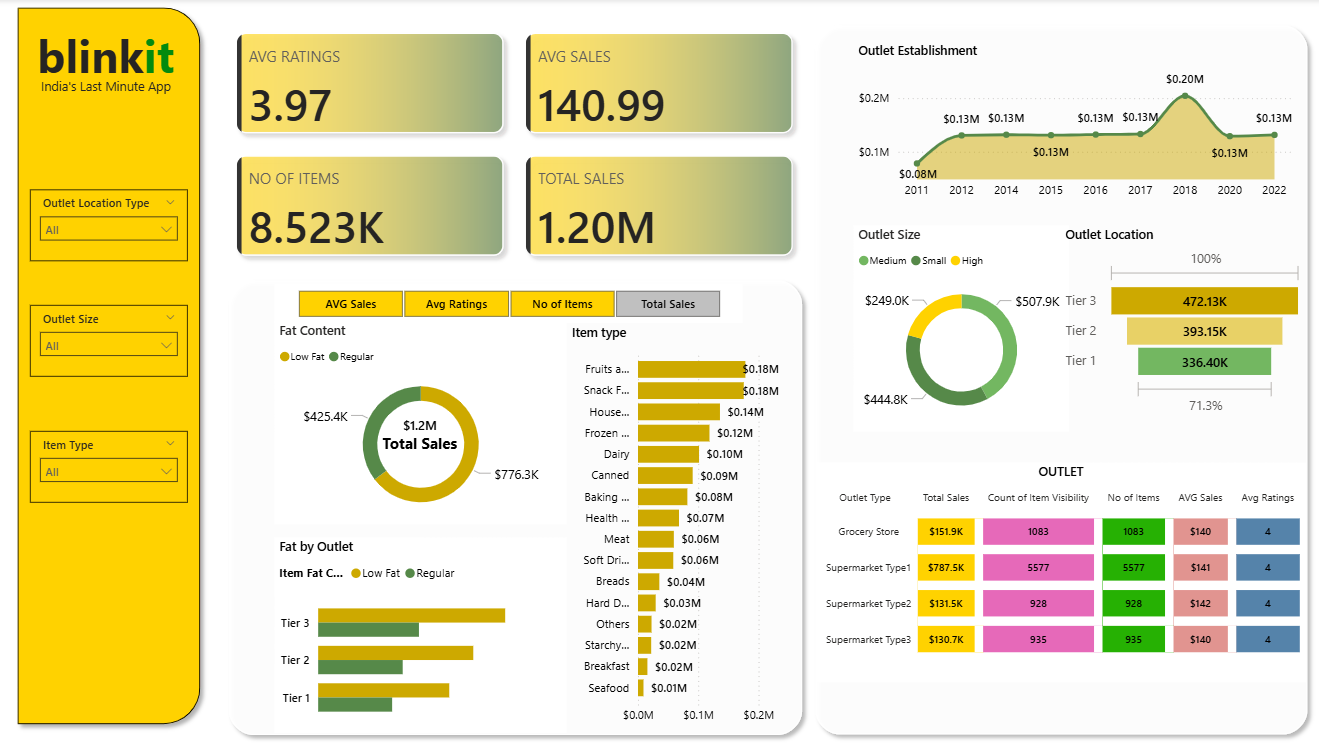

The page's visual inventory and layout, read from the dashboard file:
{"tool":"powerbi","page":{"name":"Page 1","canvas":[1400,800],"ordinal":0},"visuals":[{"type":"shape","box":[9.9,0,212,778.4],"z":0},{"type":"textbox","box":[24.8,20.7,173.6,78.5],"z":1000},{"type":"textbox","box":[28.9,78.5,167.4,39.3],"z":2000},{"type":"cardVisual","fields":{"Data":["BlinkIT Grocery Data.Avg Ratings","BlinkIT Grocery Data.AVG Sales","BlinkIT Grocery Data.No of Items","BlinkIT Grocery Data.Total Sales"]},"box":[234,19.1,625.5,270.6],"z":3000},{"type":"shape","box":[233.5,289.8,626,500.2],"z":4000},{"type":"donutChart","title":"Fat Content","fields":{"Y":["BlinkIT Grocery Data.Total Sales"],"Category":["BlinkIT Grocery Data.Item Fat Content"]},"box":[291.5,342.8,309.7,215.3],"z":5000},{"type":"slicer","fields":{"Values":["Matrix.Matrix"]},"box":[291.5,303.1,496.8,41.4],"z":6000},{"type":"cardVisual","fields":{"Data":["BlinkIT Grocery Data.Total Sales"]},"box":[380.9,425.6,130.8,66.2],"z":7000},{"type":"clusteredBarChart","title":"Fat by Outlet","fields":{"Y":["BlinkIT Grocery Data.Total Sales"],"Category":["BlinkIT Grocery Data.Outlet Location Type"],"Series":["BlinkIT Grocery Data.Item Fat Content"]},"box":[291.5,571.4,309.7,207],"z":8000},{"type":"barChart","title":"Item type","fields":{"Y":["BlinkIT Grocery Data.Total Sales"],"Category":["BlinkIT Grocery Data.Item Type"]},"box":[601.2,344.5,246.8,433.9],"z":9000},{"type":"shape","box":[856.2,19.9,539.9,770.1],"z":10000},{"type":"lineChart","title":"Outlet Establishment","fields":{"Category":["BlinkIT Grocery Data.Outlet Establishment Year"],"Y":["BlinkIT Grocery Data.Total Sales"]},"box":[905.9,44.7,470.3,175.6],"z":11000},{"type":"donutChart","title":"Outlet Size","fields":{"Y":["BlinkIT Grocery Data.Total Sales"],"Category":["BlinkIT Grocery Data.Outlet Size"]},"box":[905.9,240.1,228.6,218.6],"z":12000},{"type":"funnel","title":"Outlet Location","fields":{"Y":["Sum(BlinkIT Grocery Data.Sales)"],"Category":["BlinkIT Grocery Data.Outlet Location Type"]},"box":[1124.5,240.1,261.7,205.4],"z":13000},{"type":"pivotTable","title":"OUTLET","fields":{"Values":["BlinkIT Grocery Data.Total Sales","CountNonNull(BlinkIT Grocery Data.Item Visibility)","BlinkIT Grocery Data.No of Items","BlinkIT Grocery Data.AVG Sales","BlinkIT Grocery Data.Avg Ratings"],"Rows":["BlinkIT Grocery Data.Outlet Type"]},"box":[866.2,491.9,520,233.5],"z":14000},{"type":"slicer","fields":{"Values":["BlinkIT Grocery Data.Outlet Location Type"]},"box":[31.5,202.1,167.3,76.2],"z":14001},{"type":"slicer","fields":{"Values":["BlinkIT Grocery Data.Outlet Size"]},"box":[31.5,324.6,167.3,76.2],"z":14002},{"type":"slicer","fields":{"Values":["BlinkIT Grocery Data.Item Type"]},"box":[31.5,458.8,167.3,76.2],"z":14003}]}

Visuals, with their boxes in screenshot pixels (x1, y1, x2, y2), scaled from the page's 1400x800 canvas onto the 1319x748 screenshot:
shape: locate(9, 0, 209, 728)
textbox: locate(23, 19, 187, 93)
textbox: locate(27, 73, 185, 110)
cardVisual - BlinkIT Grocery Data.Avg Ratings x BlinkIT Grocery Data.AVG Sales: locate(220, 18, 810, 271)
shape: locate(220, 271, 810, 739)
"Fat Content" donutChart: locate(275, 321, 566, 522)
slicer - Matrix.Matrix: locate(275, 283, 743, 322)
cardVisual - BlinkIT Grocery Data.Total Sales: locate(359, 398, 482, 460)
"Fat by Outlet" clusteredBarChart: locate(275, 534, 566, 728)
"Item type" barChart: locate(566, 322, 799, 728)
shape: locate(807, 19, 1315, 739)
"Outlet Establishment" lineChart: locate(853, 42, 1297, 206)
"Outlet Size" donutChart: locate(853, 224, 1069, 429)
"Outlet Location" funnel: locate(1059, 224, 1306, 417)
"OUTLET" pivotTable: locate(816, 460, 1306, 678)
slicer - BlinkIT Grocery Data.Outlet Location Type: locate(30, 189, 187, 260)
slicer - BlinkIT Grocery Data.Outlet Size: locate(30, 304, 187, 375)
slicer - BlinkIT Grocery Data.Item Type: locate(30, 429, 187, 500)
